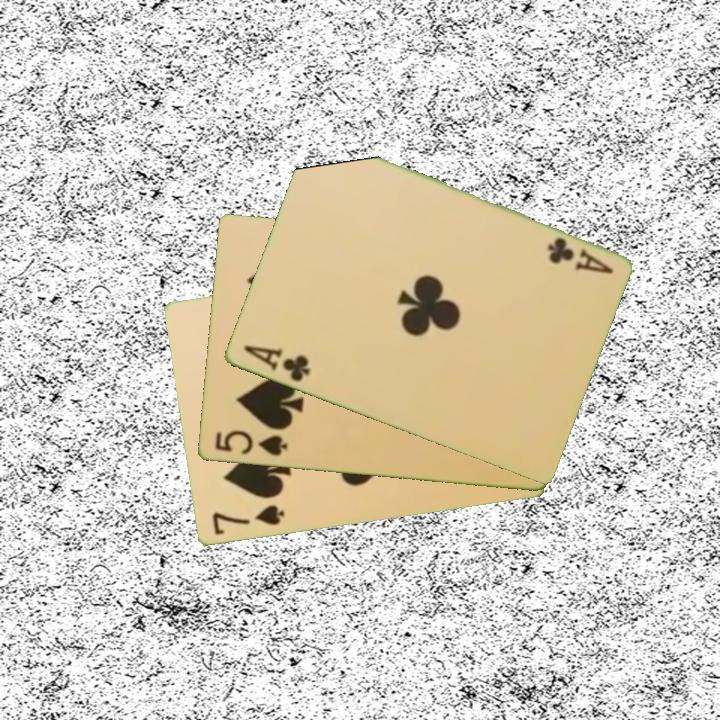5s: (211, 427, 290, 459)
7s: (208, 502, 287, 539)
Ac: (543, 234, 616, 278), (239, 342, 313, 385)
